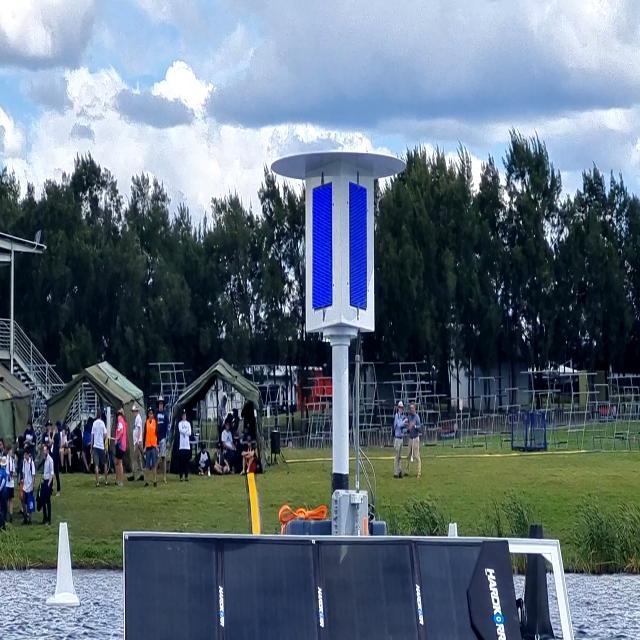led: (308, 175, 372, 325), (308, 179, 339, 315), (345, 172, 372, 322)
